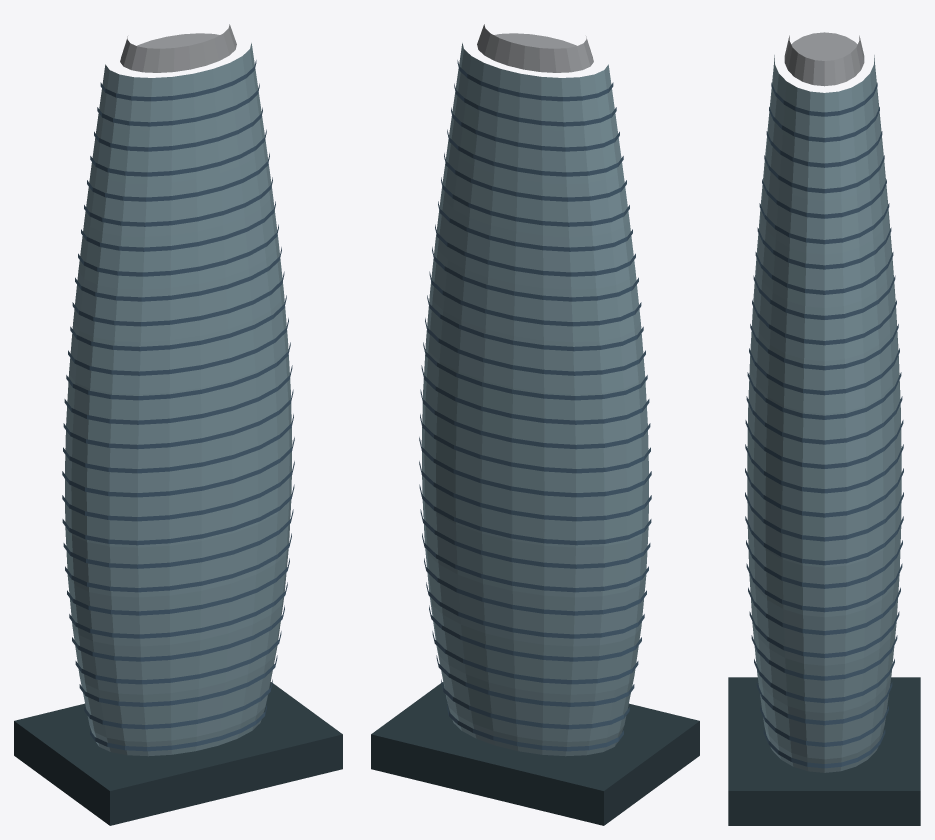
The model's file is one_blackfriars.glb.
3 renders of one model, left to right at view 1: azimuth 30°, elevation 25°; view 2: azimuth 150°, elevation 25°; view 3: azimuth 270°, elevation 25°, orthographic.
Visible parts, largest first — view 1: one_blackfriars; view 2: one_blackfriars; view 3: one_blackfriars.
Boxes of the visible parts, x1,y1,x2,y2 form: one_blackfriars: (14, 24, 342, 825); one_blackfriars: (371, 24, 699, 825); one_blackfriars: (728, 32, 920, 825).
Size of the model in its own units: 56 by 168 by 40.
